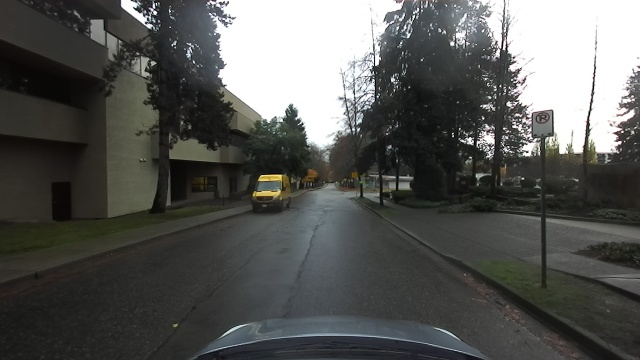car: (248, 169, 294, 215)
